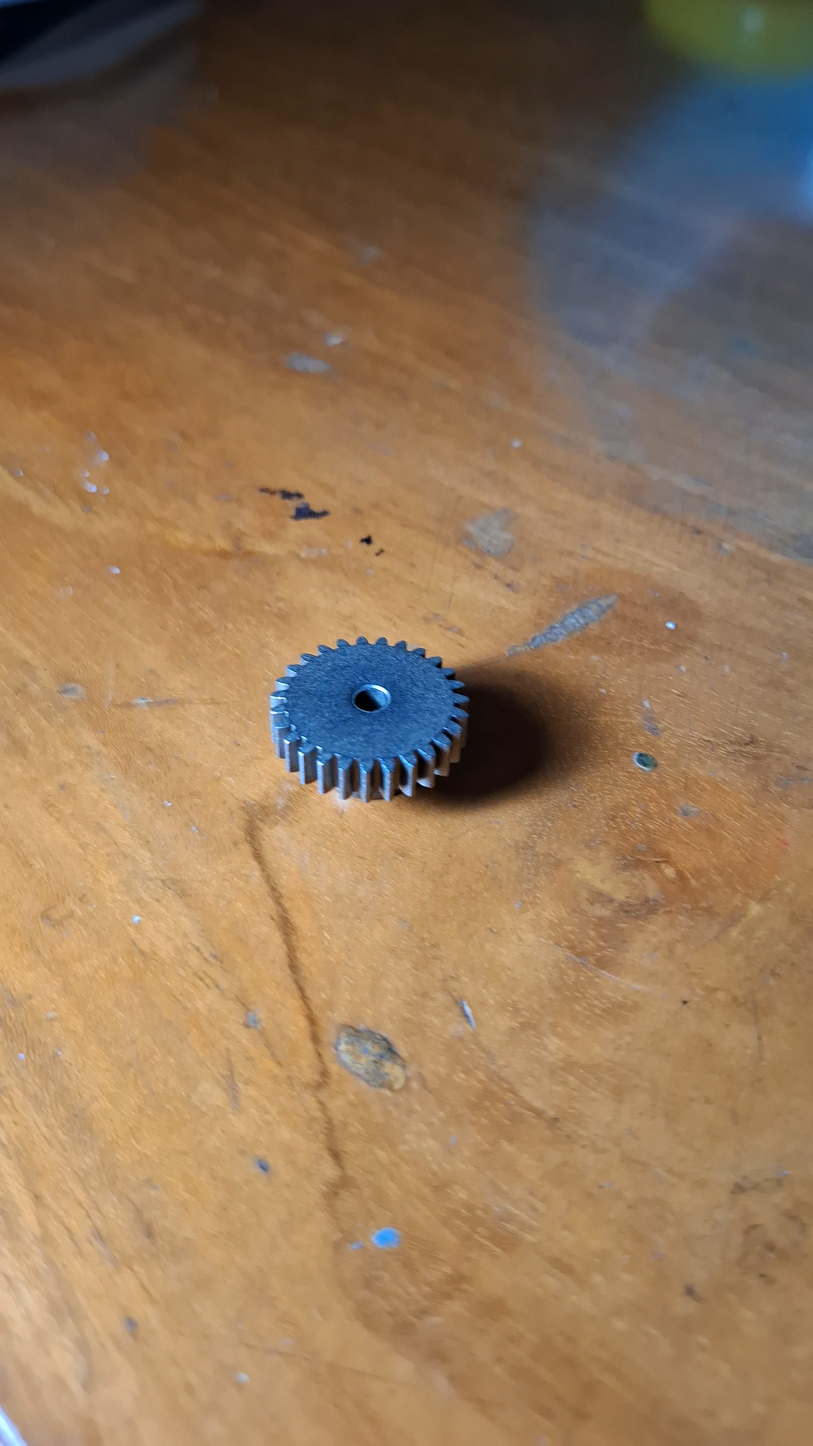spur gear: (270, 638, 468, 801)
